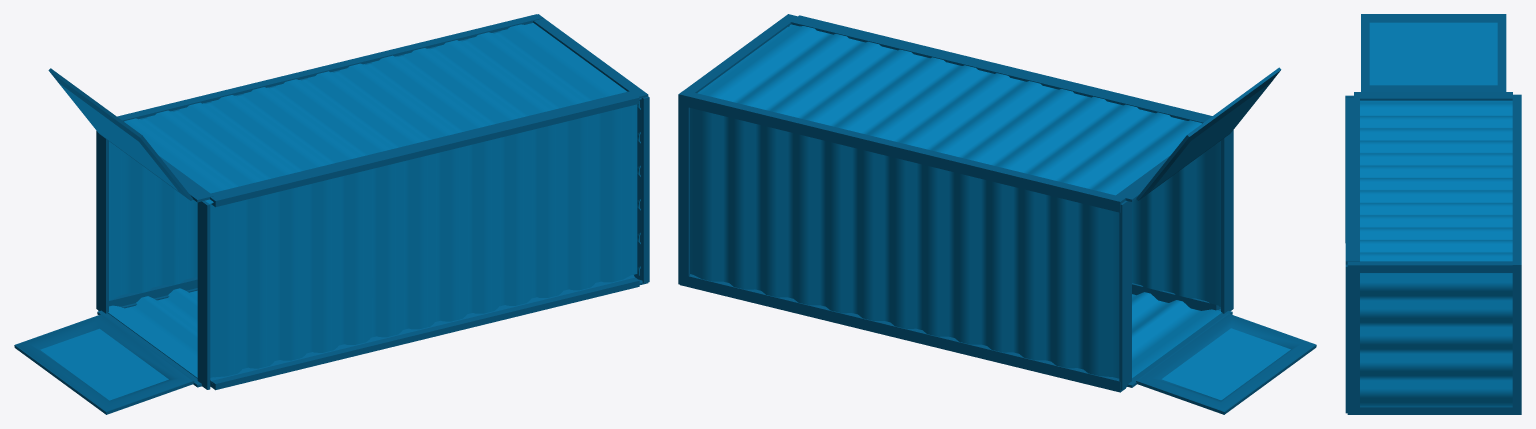
File: Van.fbx
3 views of the same model, side by side, from view 1: azimuth 30°, elevation 25°; view 2: azimuth 150°, elevation 25°; view 3: azimuth 270°, elevation 25° (orthographic). The views are drawn at different scales.
Visible parts, largest first — view 1: 2_0; view 2: 2_0; view 3: 2_0.
Boxes of the visible parts, x1,y1,x2,y2 form: 2_0: (14,14,649,414); 2_0: (678,14,1316,414); 2_0: (1345,14,1521,414).
Size of the model in its own units: 8423 by 4073 by 3031.
